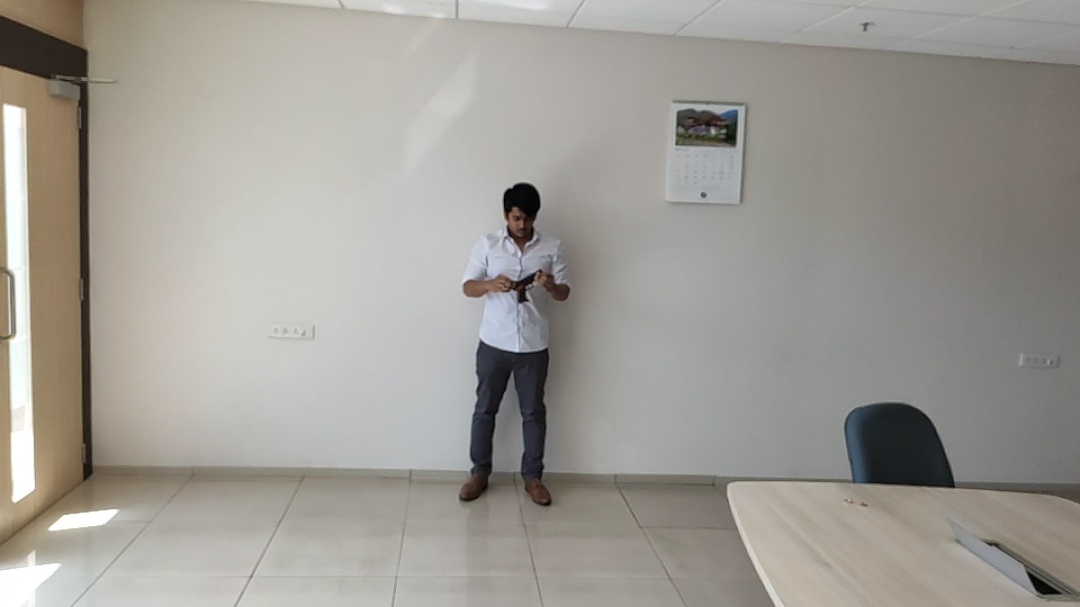gun: (323, 148, 732, 548)
